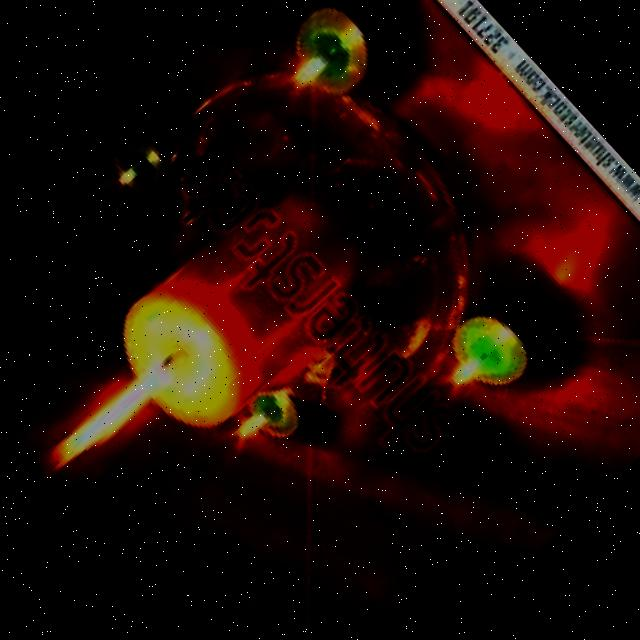Fire: (25, 337, 194, 493)
